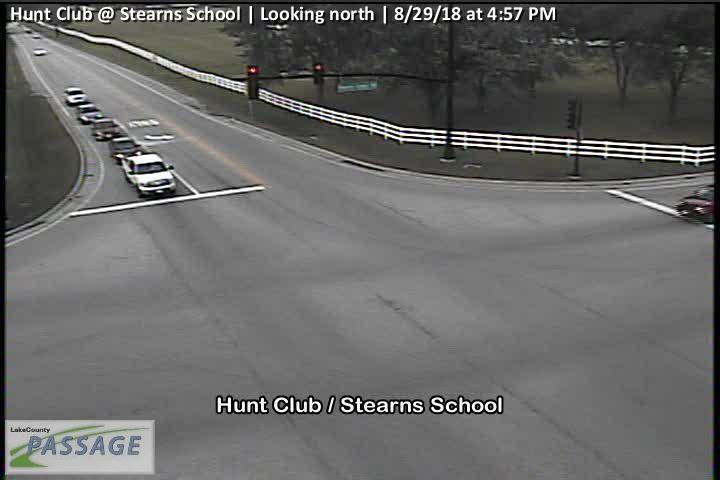SUV: (125, 154, 176, 196), (64, 87, 87, 105)
Sedan: (676, 182, 715, 223), (110, 137, 142, 161), (92, 119, 121, 140), (77, 104, 103, 123)
